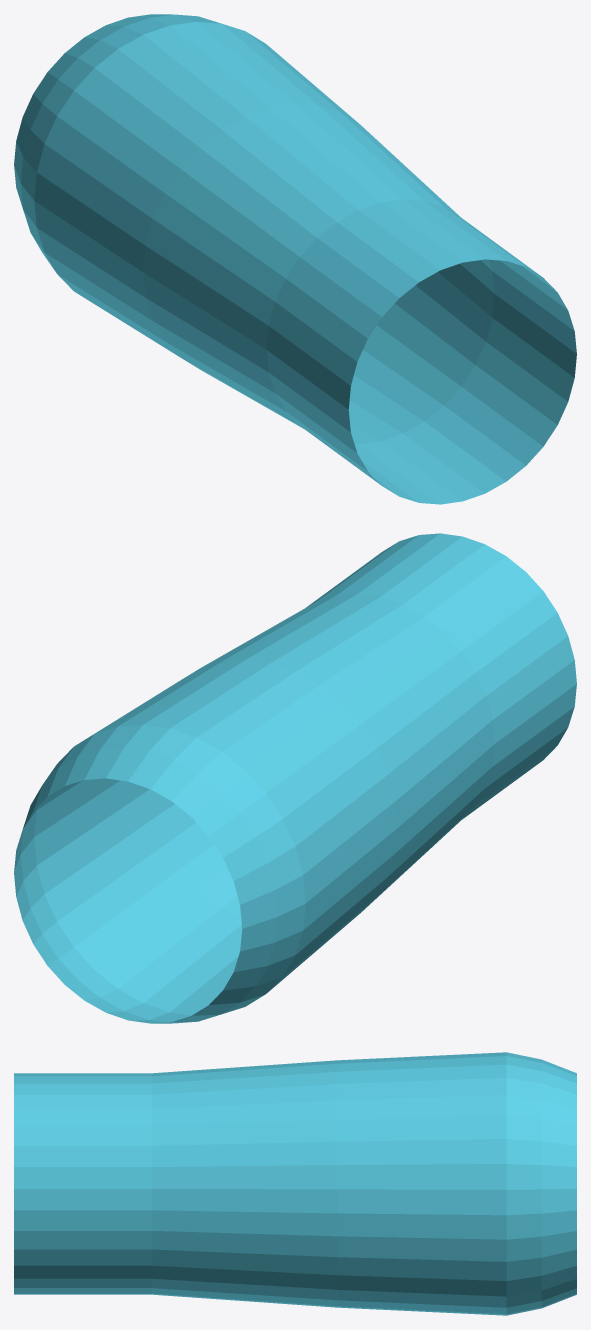
The model's file is Area3.Tunnel1.placeholder.fbx.
3 renders of one model, top to bottom at view 1: azimuth 30°, elevation 25°; view 2: azimuth 150°, elevation 25°; view 3: azimuth 270°, elevation 25°, orthographic. The views are drawn at different scales.
Parts seen in each view (by area): view 1: Cylinder; view 2: Cylinder; view 3: Cylinder.
Part boxes in pixels (left/top/right/bottom): Cylinder: left=14, top=14, right=576, bottom=504; Cylinder: left=14, top=533, right=576, bottom=1023; Cylinder: left=14, top=1052, right=576, bottom=1315.
Bounding box in the file's own units: 93.86 × 93.86 × 200.
